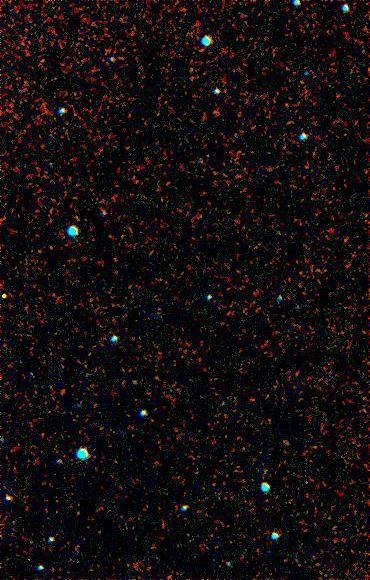star: (0, 281, 27, 311)
